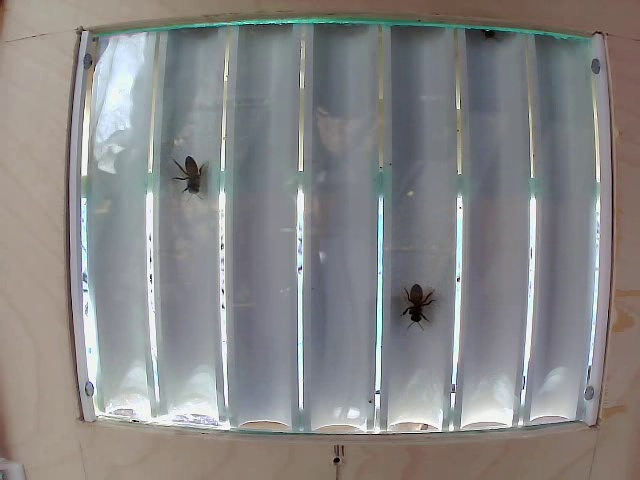bee: (175, 148, 210, 206), (406, 272, 434, 330)
